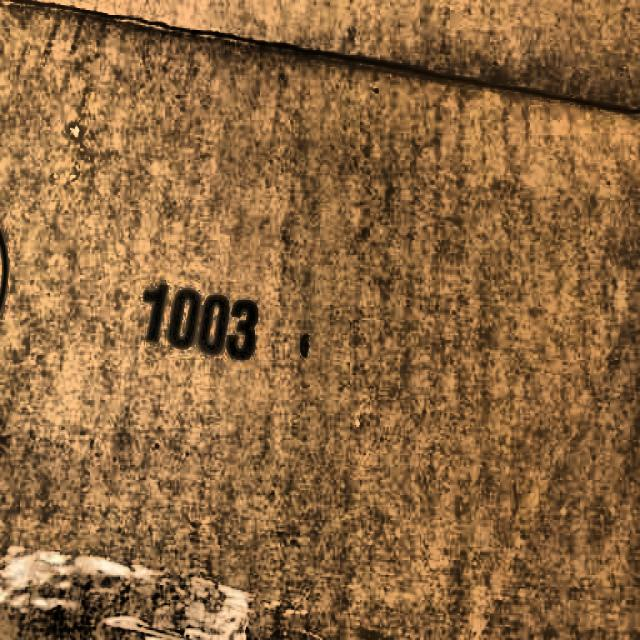cardboard: (6, 7, 631, 628)
